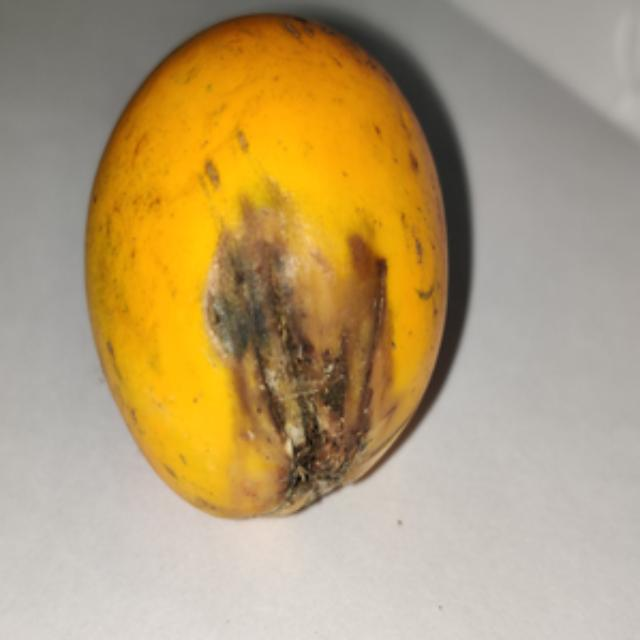damaged: (83, 13, 452, 522)
